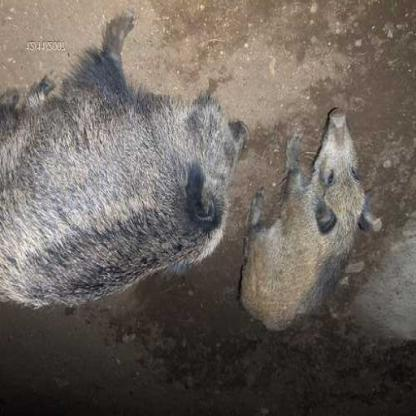boar: (0, 27, 270, 342)
